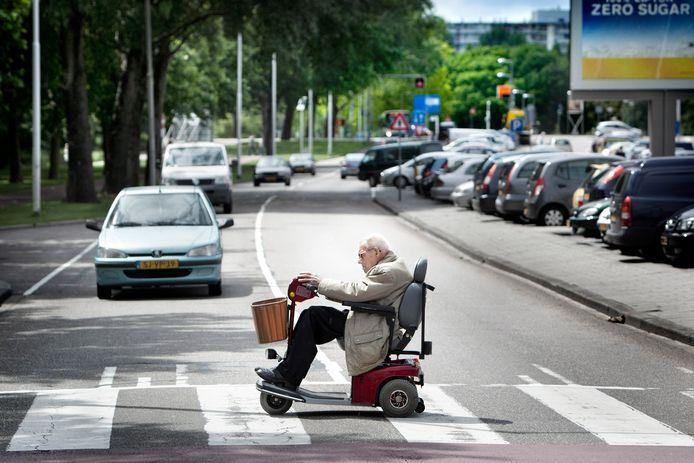wheelchair: (251, 235, 434, 418)
